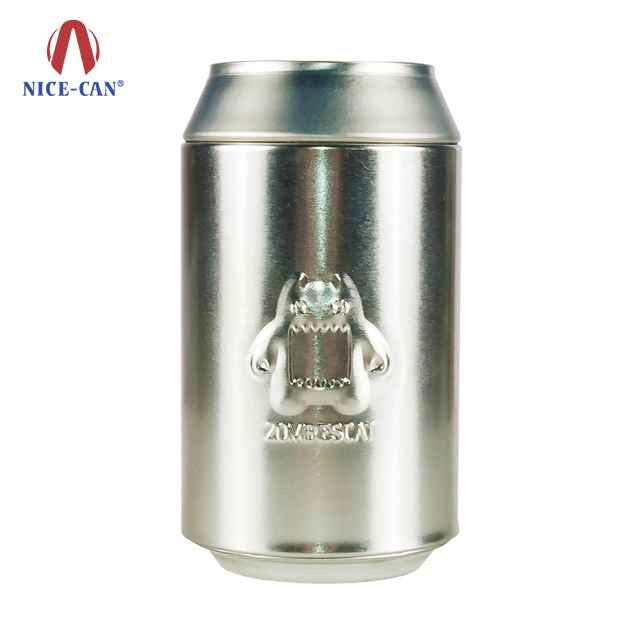metal: (177, 59, 466, 585)
